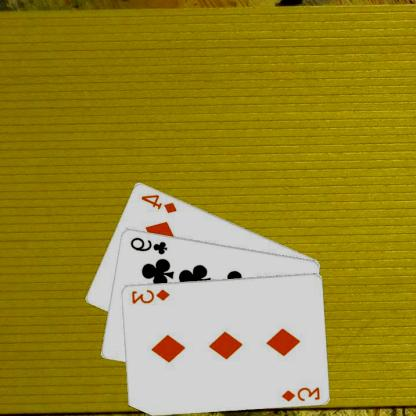3D: (130, 286, 173, 305), (280, 384, 323, 403)
4D: (140, 192, 180, 214)
9C: (129, 234, 170, 256)
